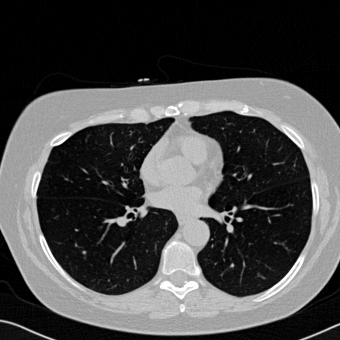nodule: (82, 250, 86, 254)
